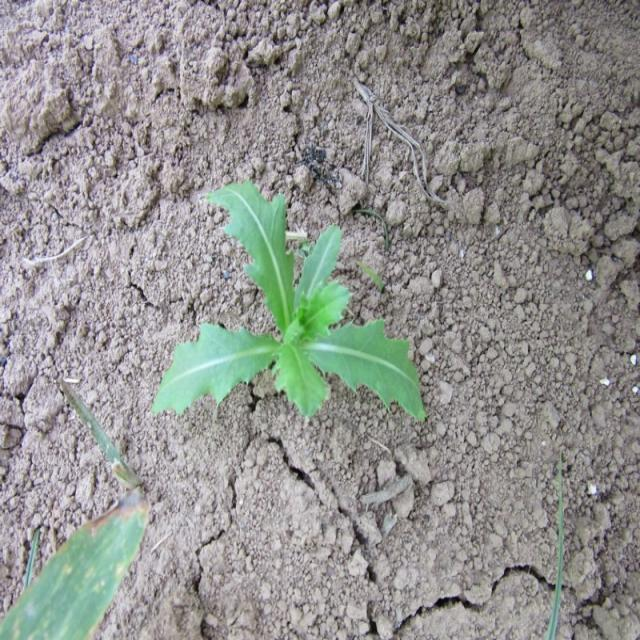field_thistle: (166, 159, 422, 479)
